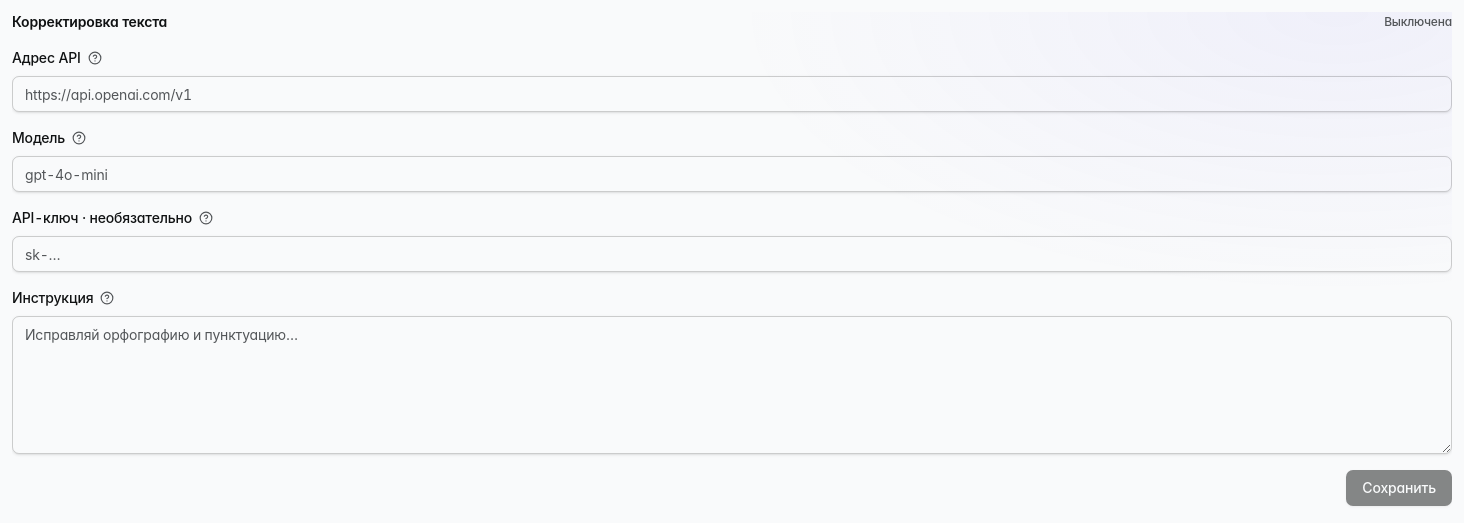
Test: CorrectionSetting › explains API-ключ on hover and keyboard focus, dismisses with Escape, and provides examples
The width and height of the screenshot is (1464, 523).
Expected: the password field with placeholder "sk-…" is shown, 12,236 -> 1452,272
Hover over the button named "Подсказка: API-ключ" at x=206, y=218, box 196,208 -> 216,228
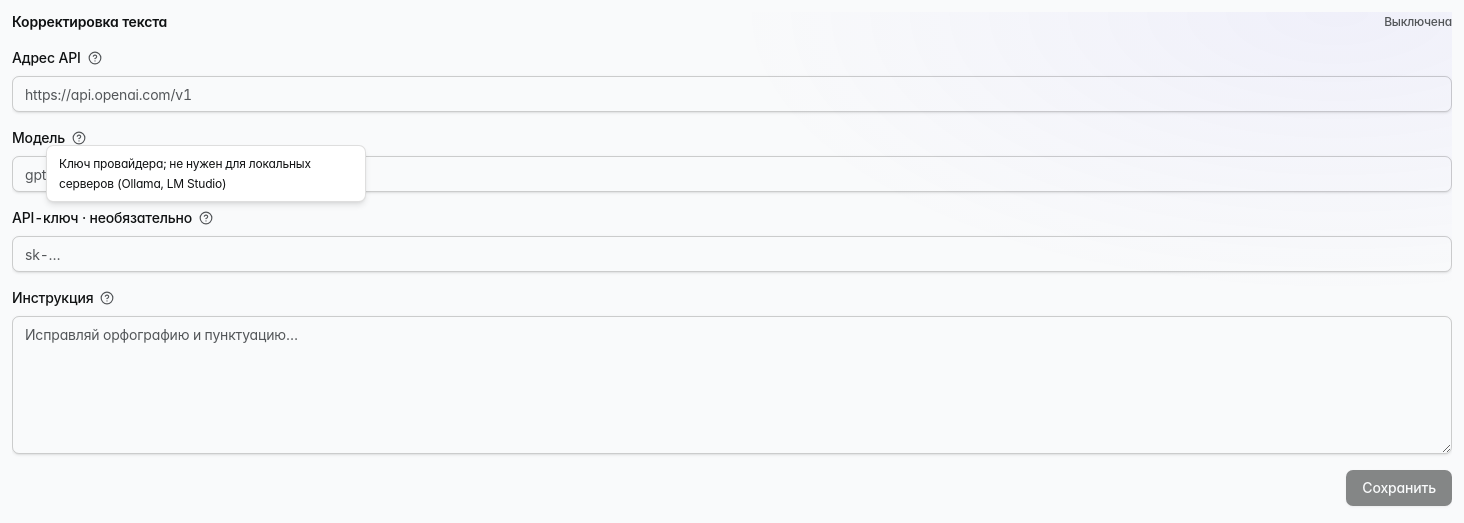
Expected: the tooltip reads "Ключ провайдера; не нужен для локальных серверов (Ollama, LM Studio)", 59,156 -> 311,190
Press Escape
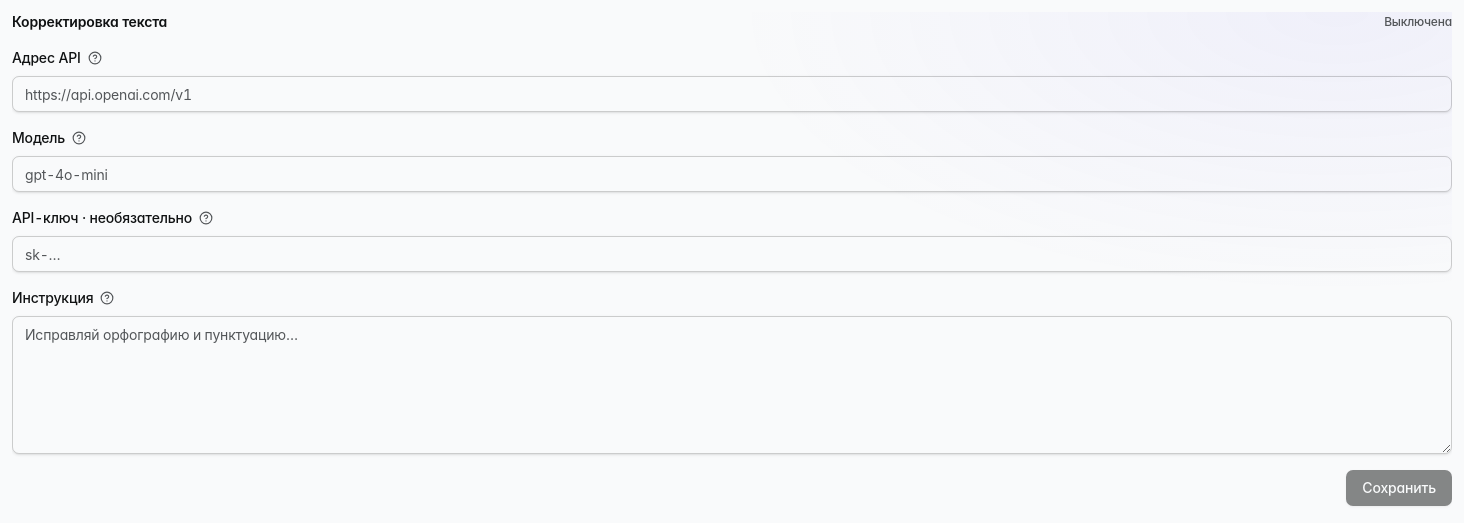
Expected: the tooltip "Ключ провайдера; не нужен для локальных серверов (Ollama, LM Studio)" is gone
Move the pointer off the button named "Подсказка: API-ключ", box 196,208 -> 216,228
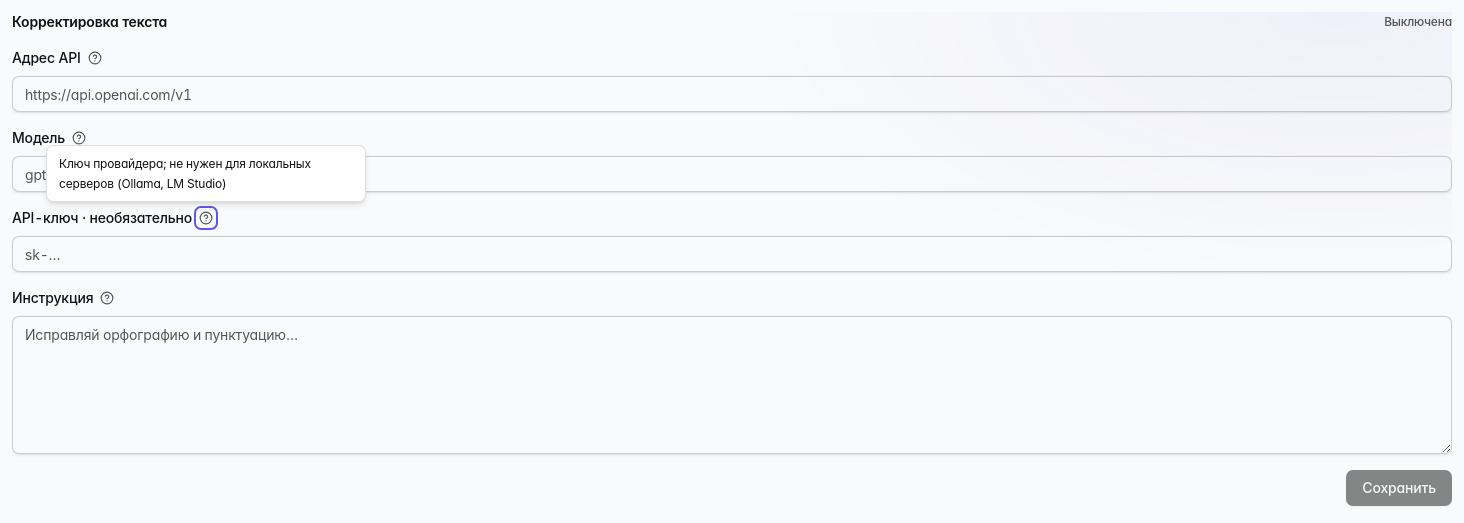
Expected: the tooltip reads "Ключ провайдера; не нужен для локальных серверов (Ollama, LM Studio)", 59,156 -> 311,190
Press Escape
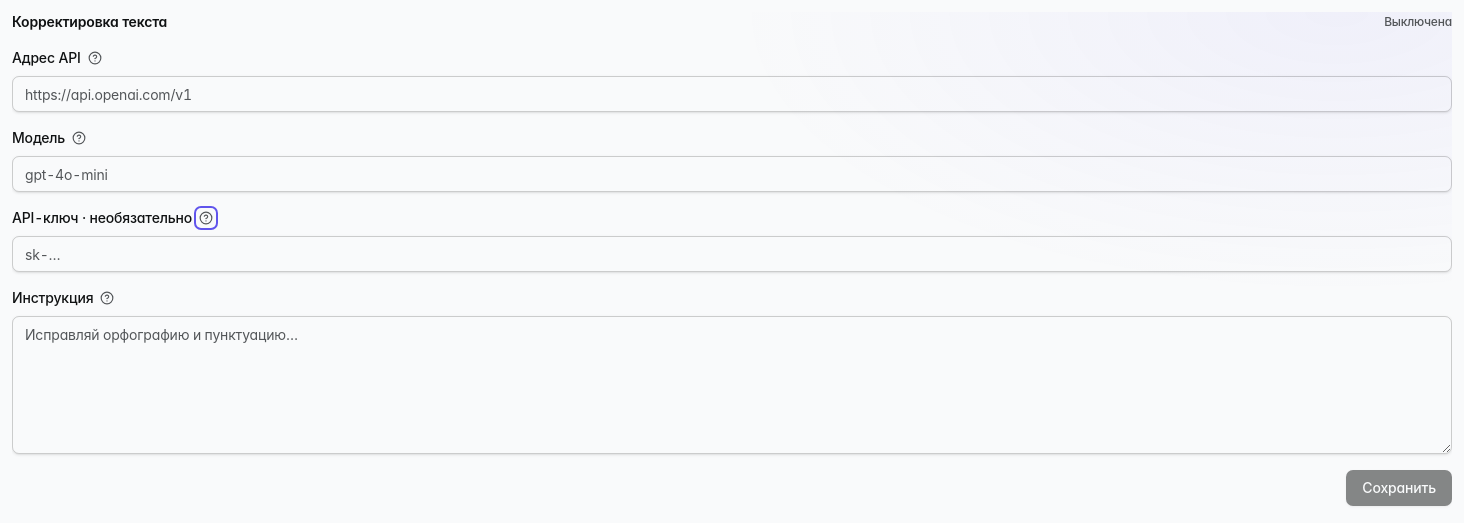
Expected: the tooltip "Ключ провайдера; не нужен для локальных серверов (Ollama, LM Studio)" is gone
